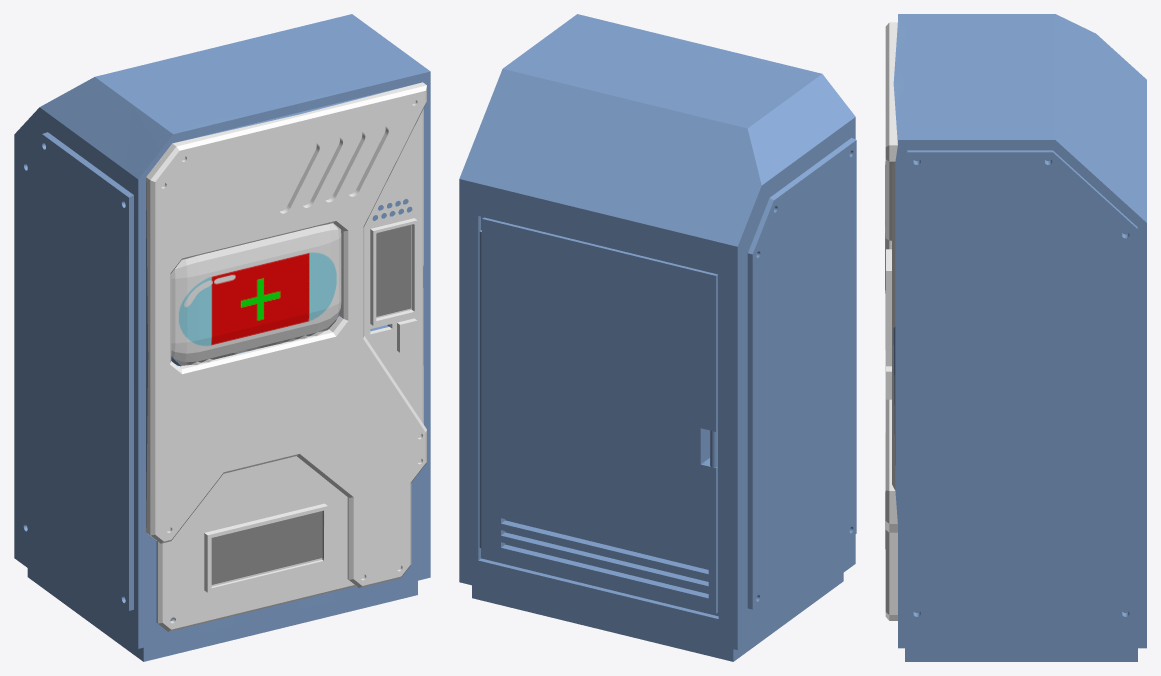
File: sell.FBX
3 views of the same model, side by side, from view 1: azimuth 30°, elevation 25°; view 2: azimuth 150°, elevation 25°; view 3: azimuth 270°, elevation 25° (orthographic). The views are drawn at different scales.
Size of the model in its own units: 27.7 by 46 by 20.75.
Materials: 1 (1 with a texture image).
